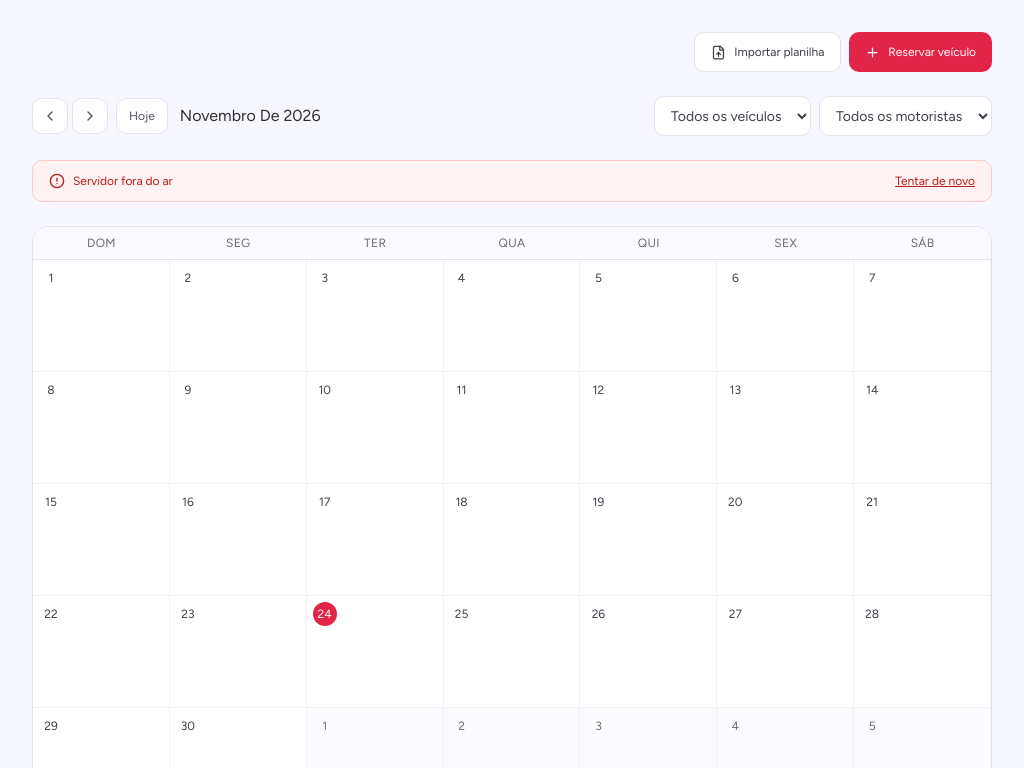
Scenario: Agenda: erro e vazio › o erro de carga tem 'Tentar de novo', que pede de novo ao servidor
Check: the message shows "Servidor fora do ar", box [73,174,173,188]
Step 1. Click the button "Tentar de novo" → [935, 181], box [895,173,975,189]
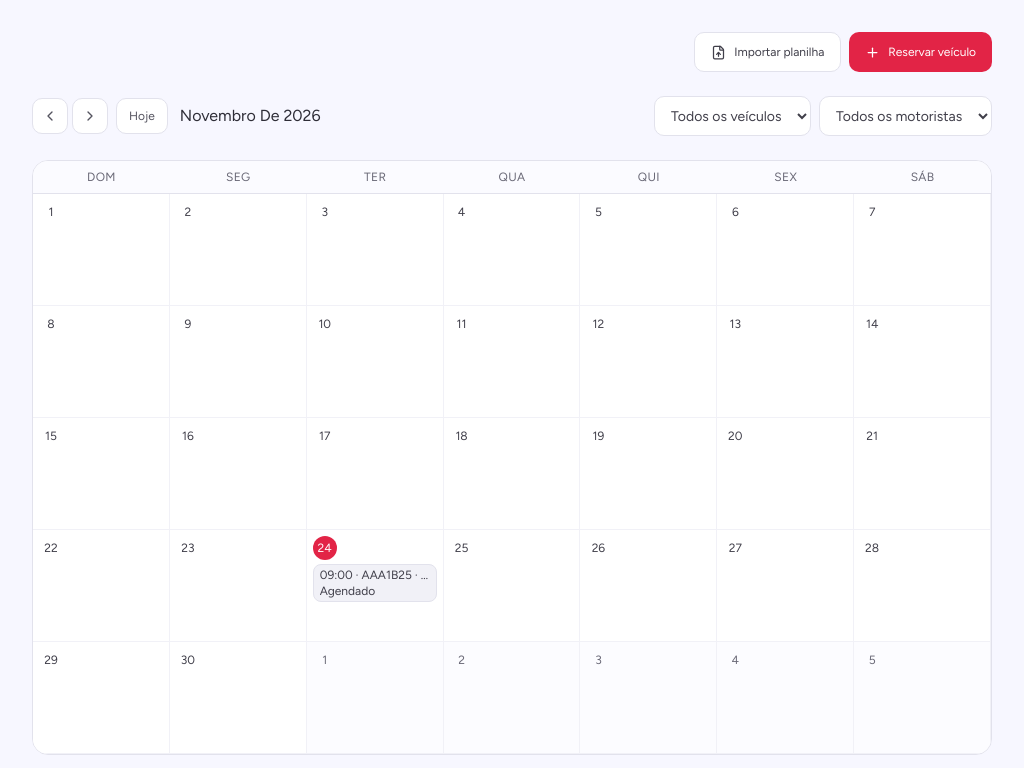
Check: the button "09:00 · AAA1B25 · Maria Silva Agendado" is shown, box [313,564,437,602]
Check: the message "Servidor fora do ar Tentar de novo" is gone
